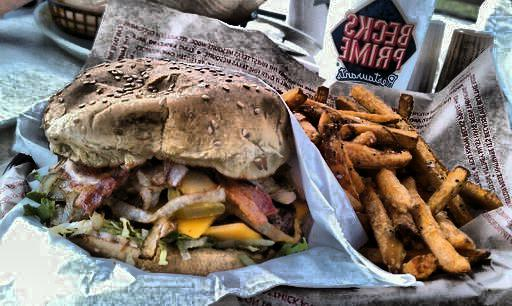burger: (23, 60, 294, 272)
